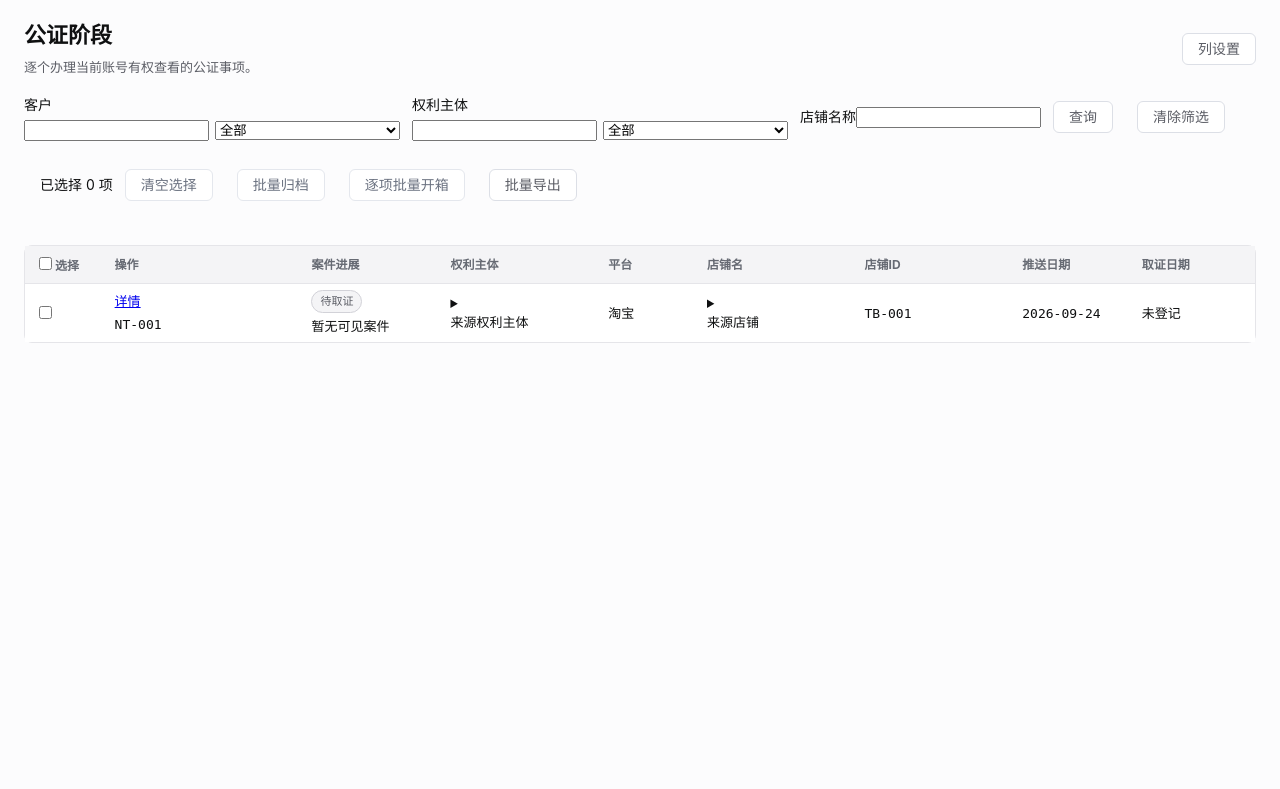
Test: NotaryMatterListPage › keeps the saved columns and draft after a save failure
Step 1. Click the button with test id "column-settings-toggle" → (1219, 49), box [1182,33,1256,65]
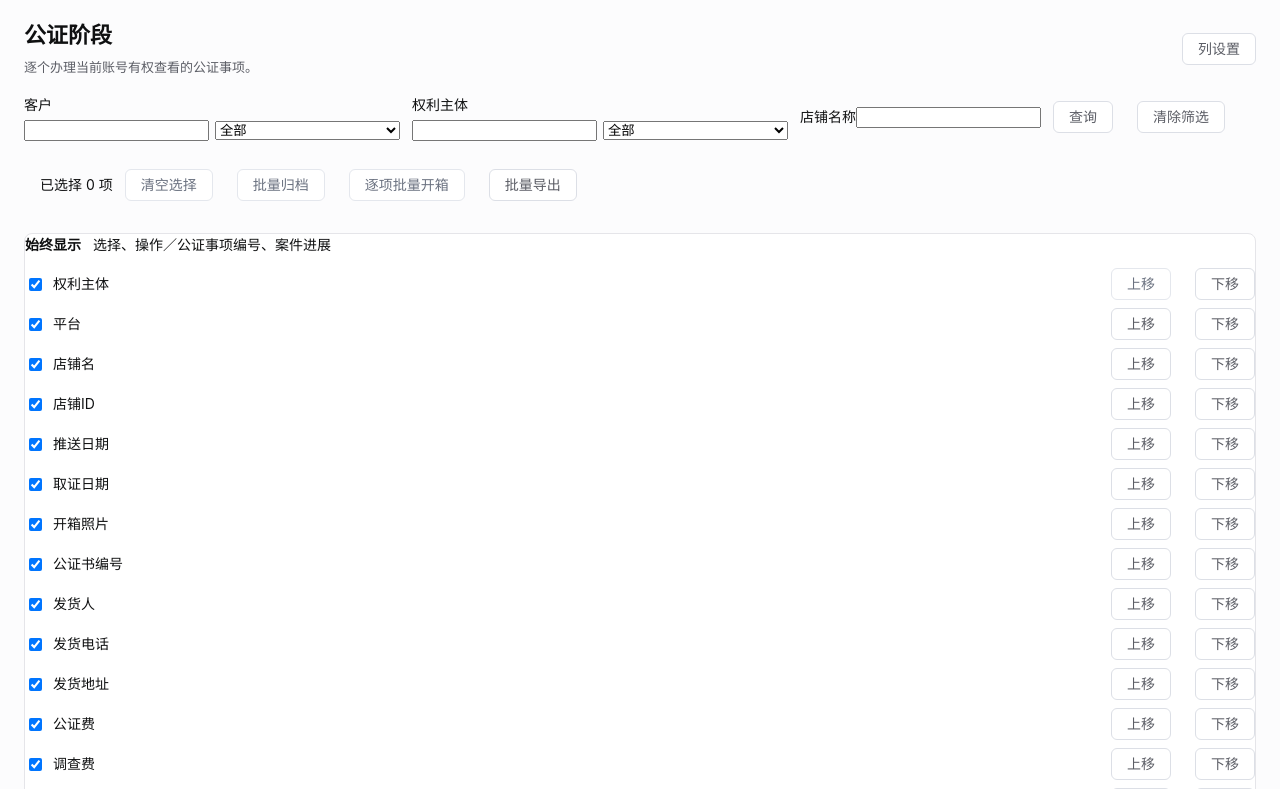
Step 2. Click the checkbox labelled "权利主体" → (36, 284), box [29,278,42,291]
(page scrolled)
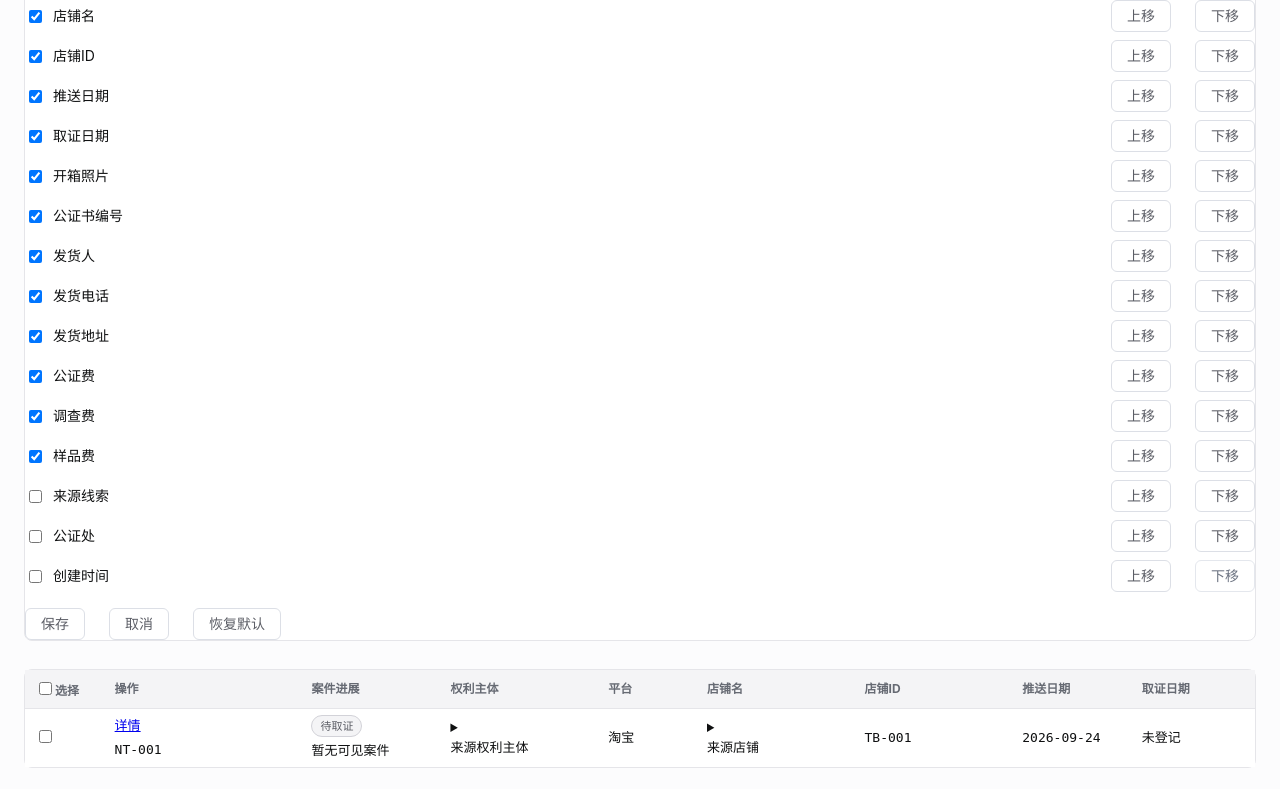
Step 3. Click the button with test id "save-columns" → (55, 624), box [25,608,85,640]
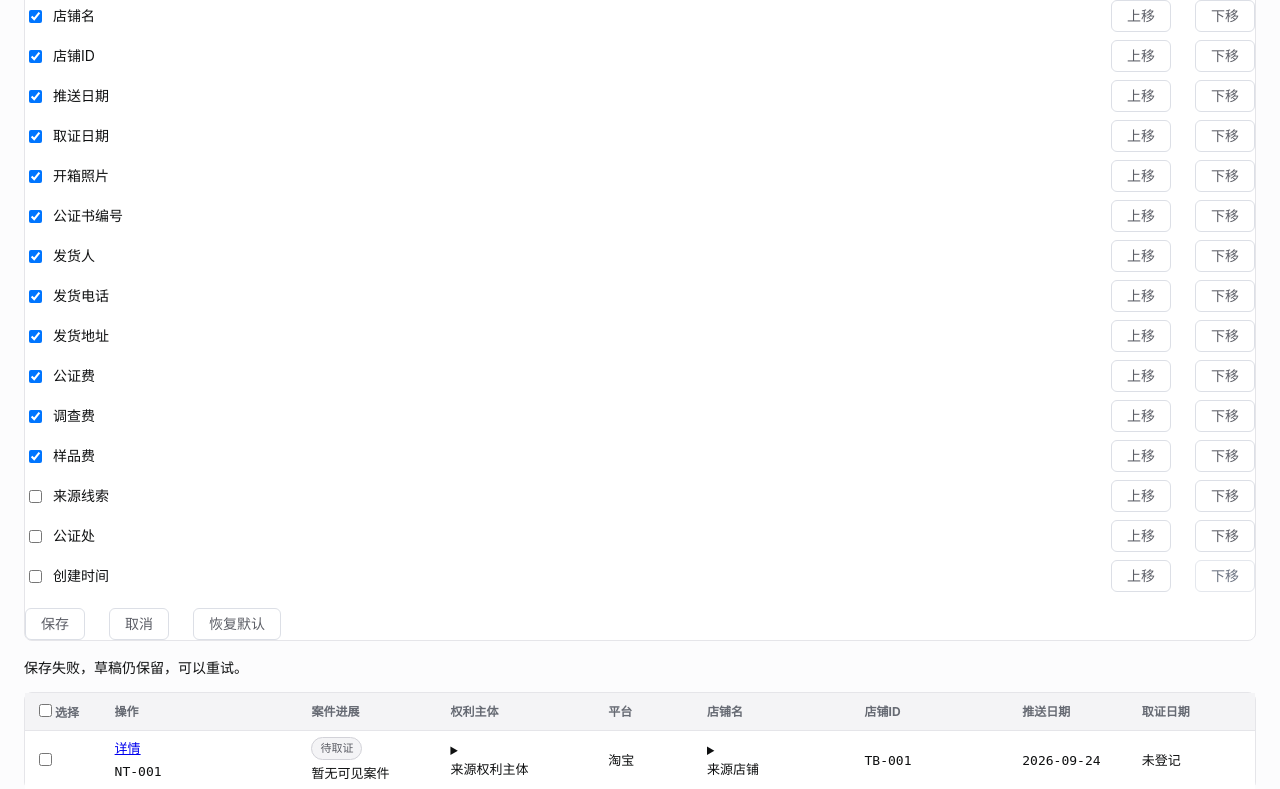
Result: the message with test id "column-preference-status" shows "草稿仍保留" at [24,659,248,676]
